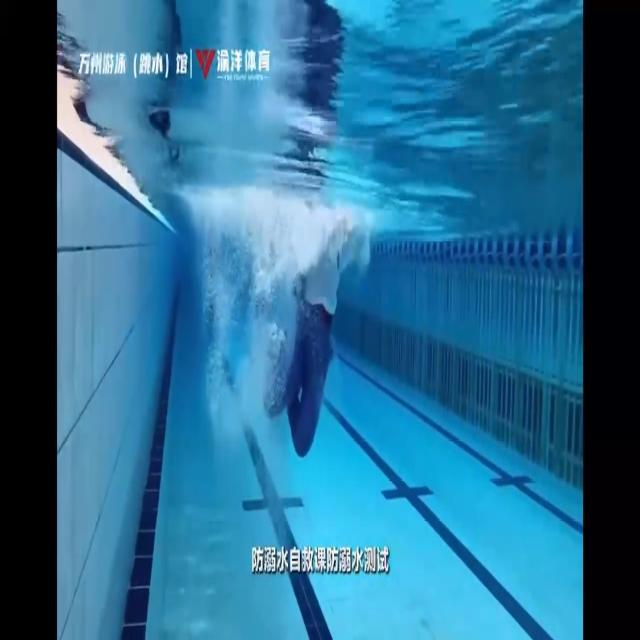Drowning: (264, 211, 356, 457)
